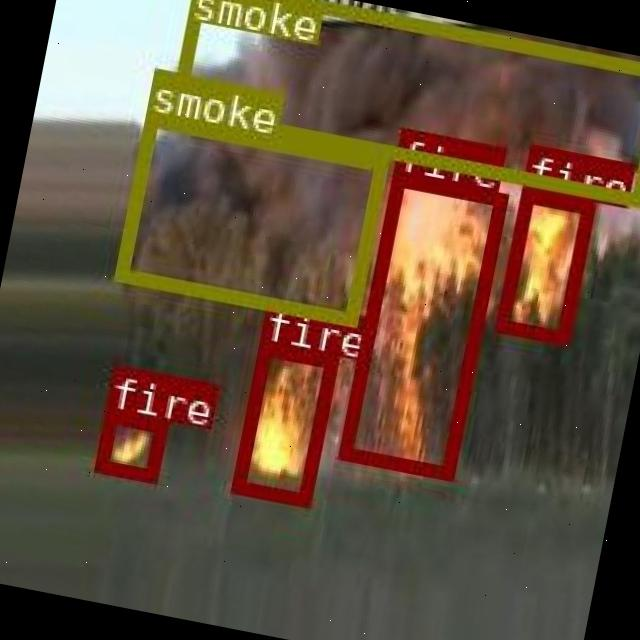fire: (336, 170, 504, 478), (229, 340, 336, 504), (495, 186, 592, 341), (94, 408, 166, 480)
smoke: (167, 0, 640, 204), (113, 111, 386, 322)
